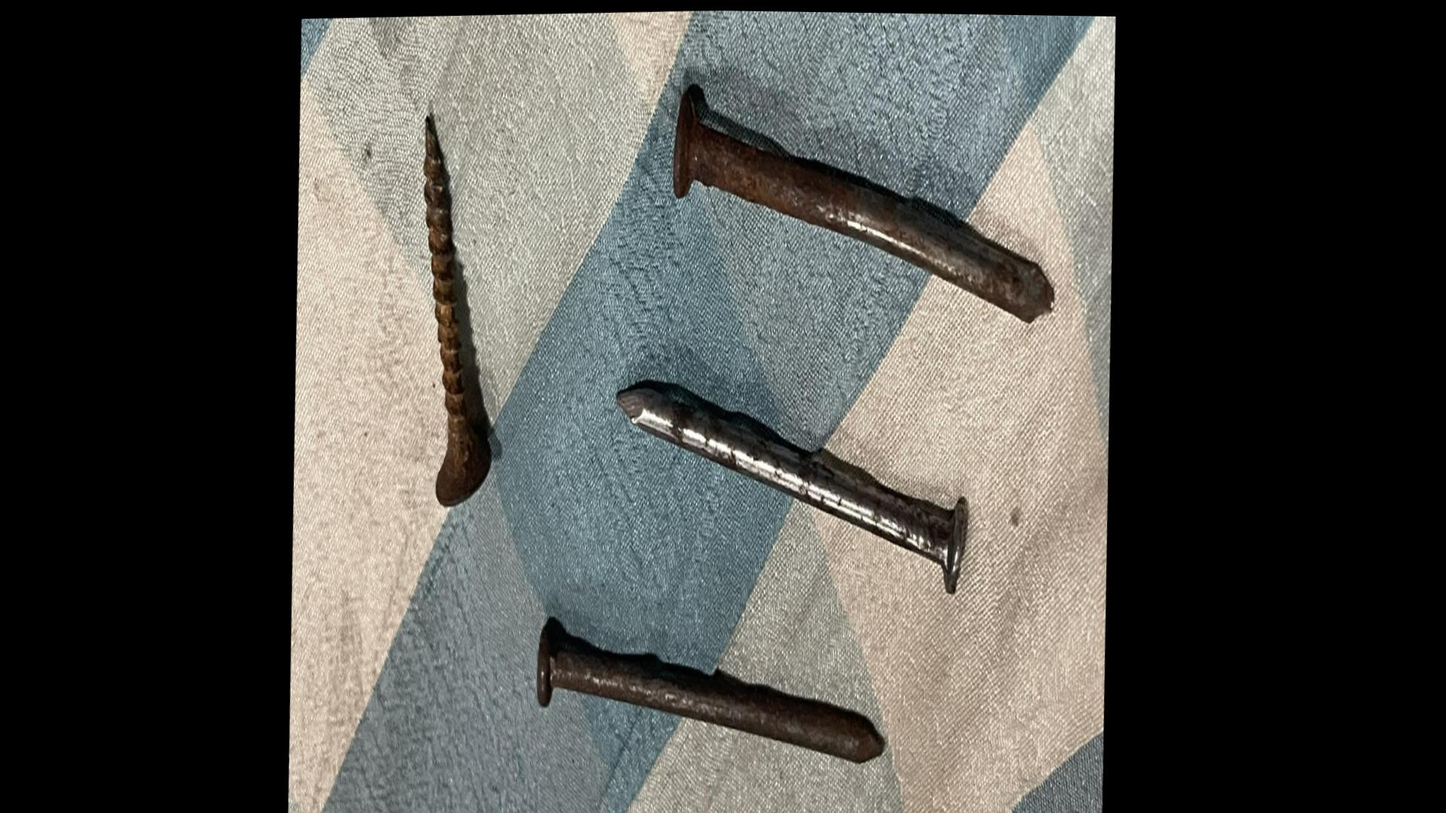nail: (645, 37, 1080, 363), (593, 324, 998, 612), (519, 577, 916, 813)
screw: (383, 31, 537, 579)
